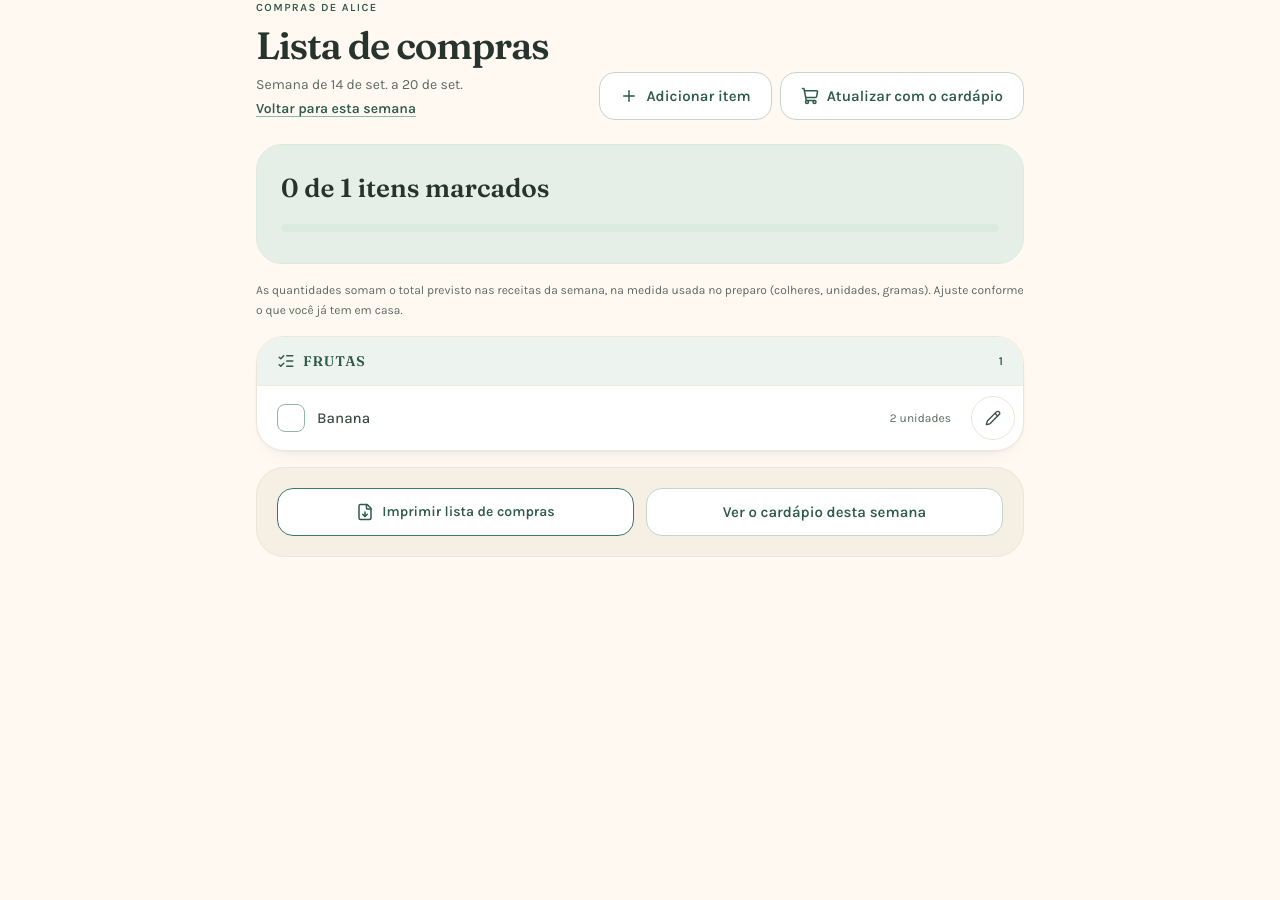
falha ao confirmar mostra erro e não promete sucesso
Click the button "Atualizar com o cardápio" at x=902, y=96, box [780,72,1024,120]
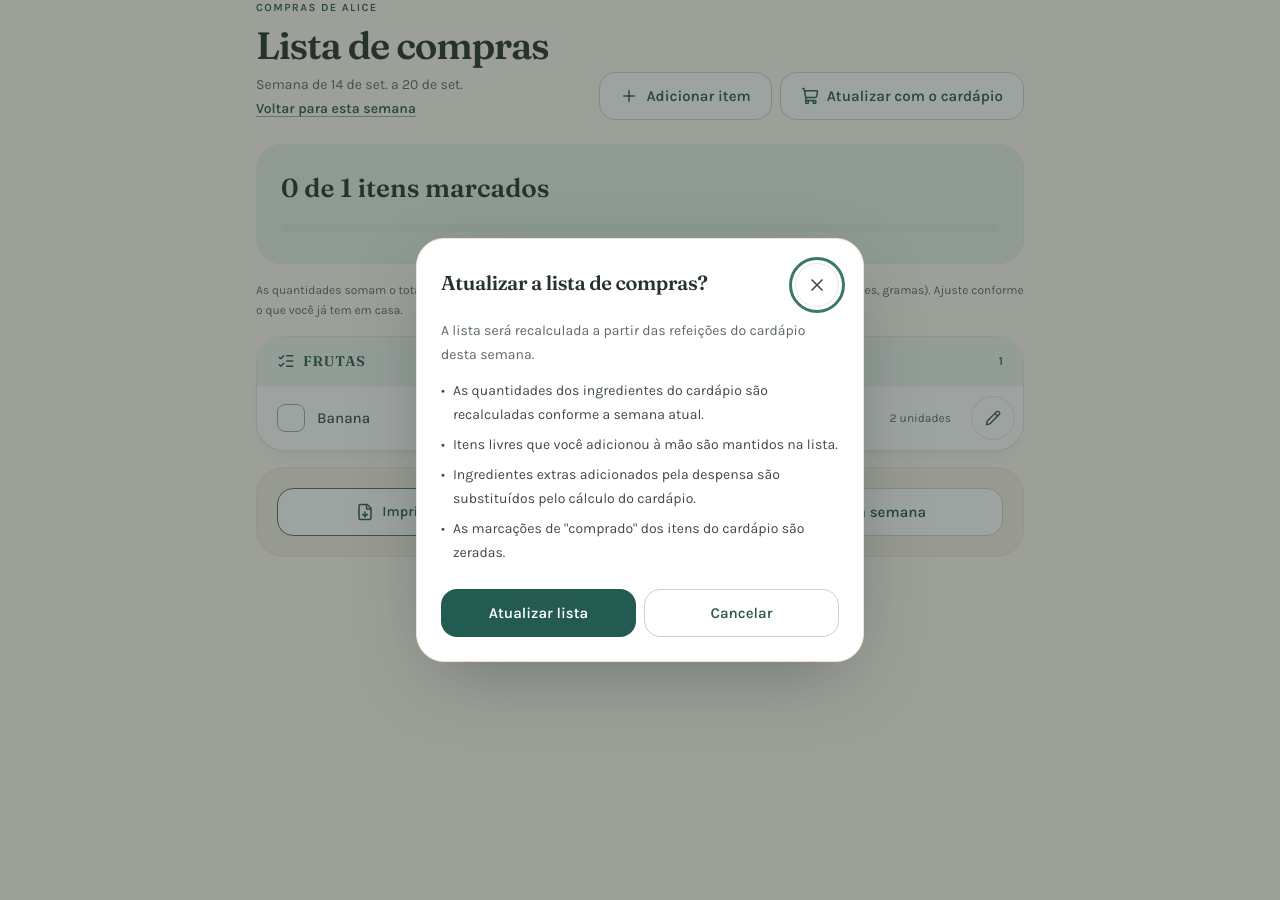
Click the button "Atualizar lista" at x=538, y=613, box [441,589,636,637]
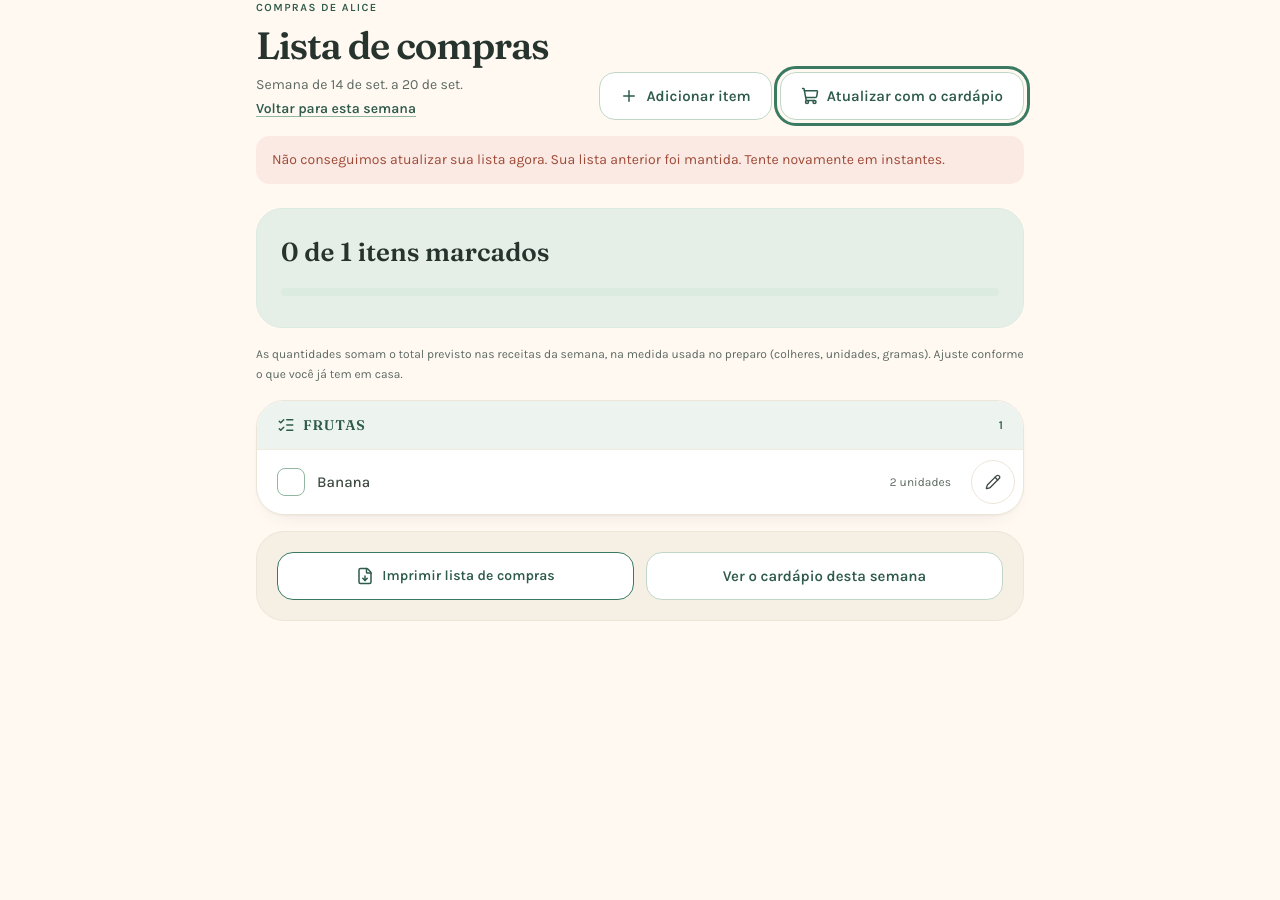
Expected: the message shows "lista anterior foi mantida", [272,151,945,168]
